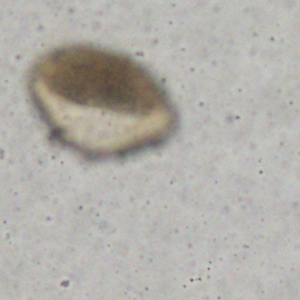Fasciola_hepatica_egg: (26, 42, 179, 160)
